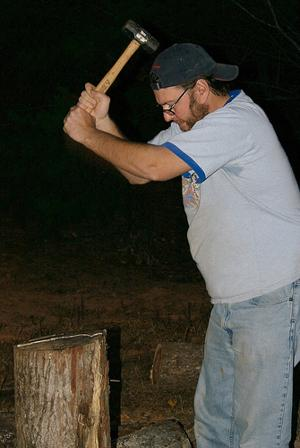person: (62, 39, 300, 448)
